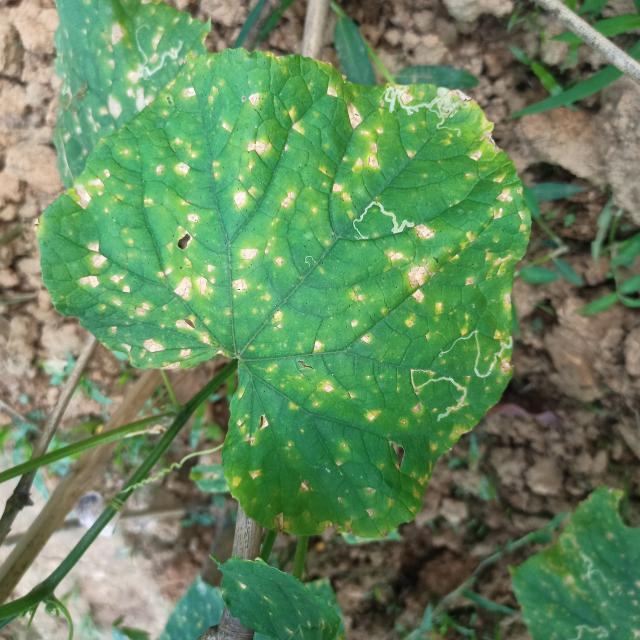disease_cucumber: (62, 67, 525, 529), (42, 11, 185, 153)
